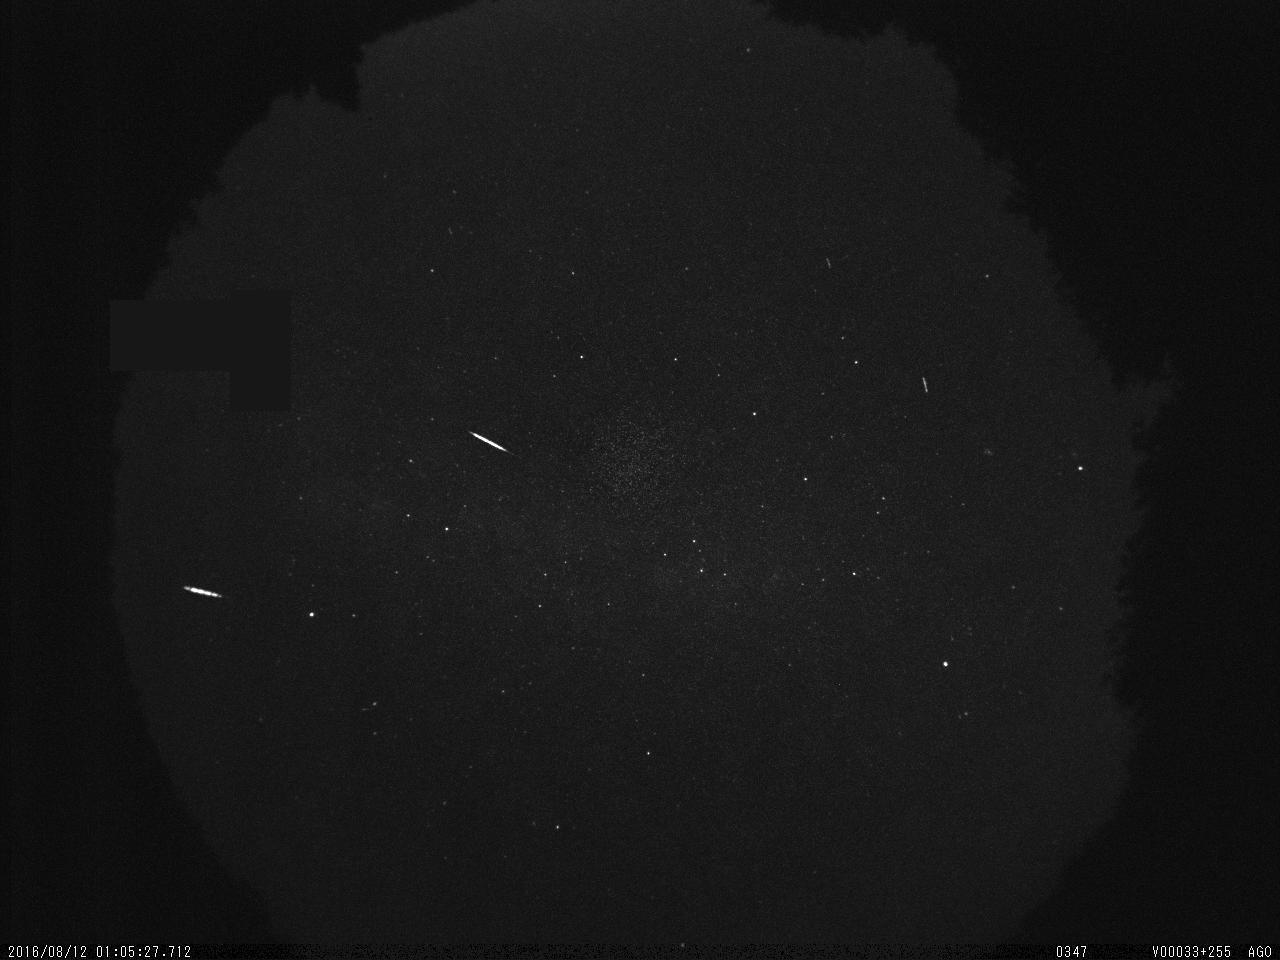meteor: (459, 425, 520, 459), (174, 578, 231, 607)
